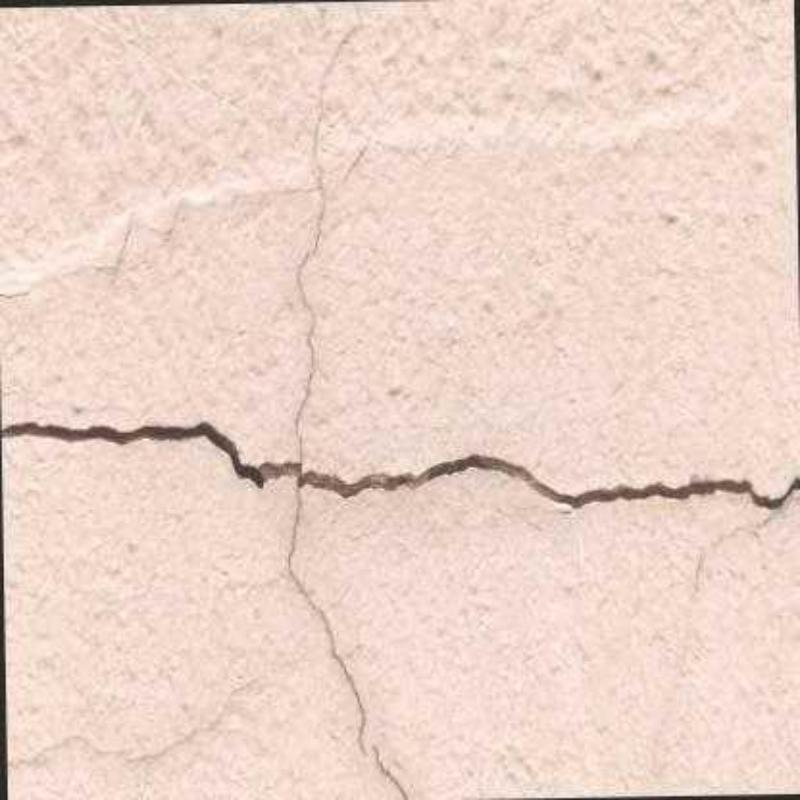crack: (0, 418, 798, 509), (294, 23, 360, 467), (285, 487, 369, 758), (371, 742, 412, 798)
